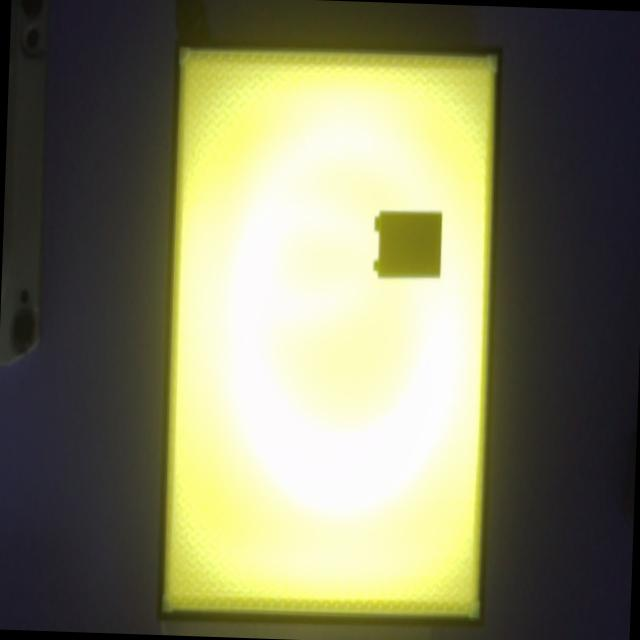bateria: (374, 212, 443, 278)
mesa: (157, 36, 502, 625)
